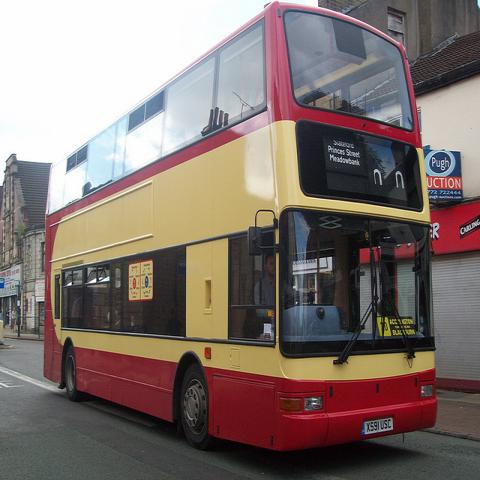bus: (43, 1, 438, 452)
